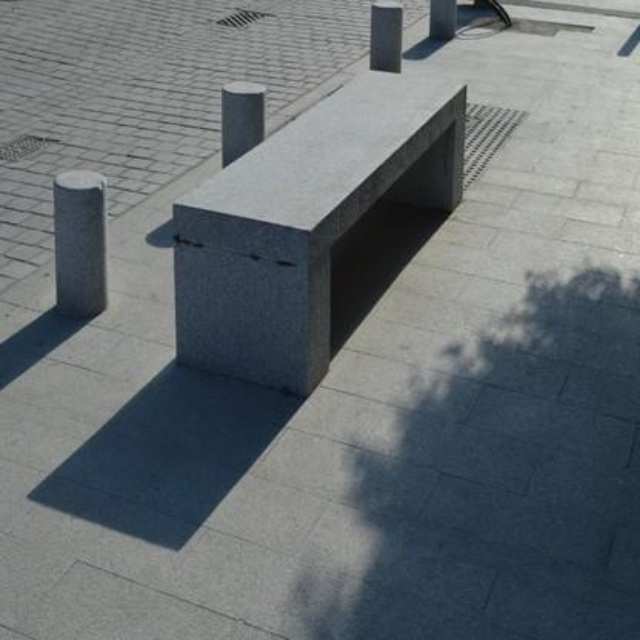obstacle: (157, 60, 477, 385)
